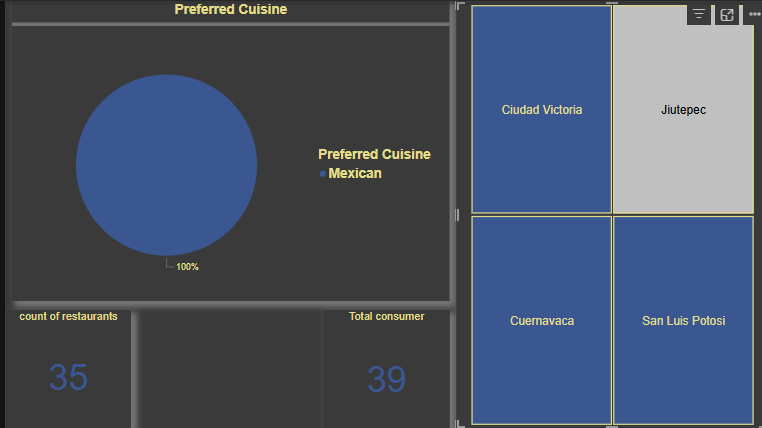

Layout of this report page (visuals, bound fields, positions):
{"tool":"powerbi","page":{"name":"Page 2","canvas":[1280,720],"ordinal":2},"visuals":[{"type":"pieChart","title":" Preferred Cuisine","fields":{"Category":["consumer preferences.Preferred Cuisine"],"Y":["consumer preferences.cuisine count"]},"box":[10.6,0,735.2,504.2],"z":0},{"type":"slicer","fields":{"Values":["consumers.City"]},"box":[756.4,0,523.6,719.3],"z":1000},{"type":"card","title":"count of restaurants ","fields":{"Values":["Count(the restaurants.restaurants.Name)"]},"box":[0,518.3,209.8,201],"z":2000},{"type":"card","title":"Total consumer ","fields":{"Values":["the restaurants.count of consumers"]},"box":[532.5,518.3,213.3,201],"z":3000}]}

Visuals, with their boxes in screenshot pixels (x1, y1, x2, y2), scaled from the page's 1280x720 canvas onto the 762x428 screenshot:
" Preferred Cuisine" pieChart: region(6, 0, 444, 300)
slicer - consumers.City: region(450, 0, 761, 427)
"count of restaurants " card: region(0, 308, 125, 427)
"Total consumer " card: region(317, 308, 444, 427)
